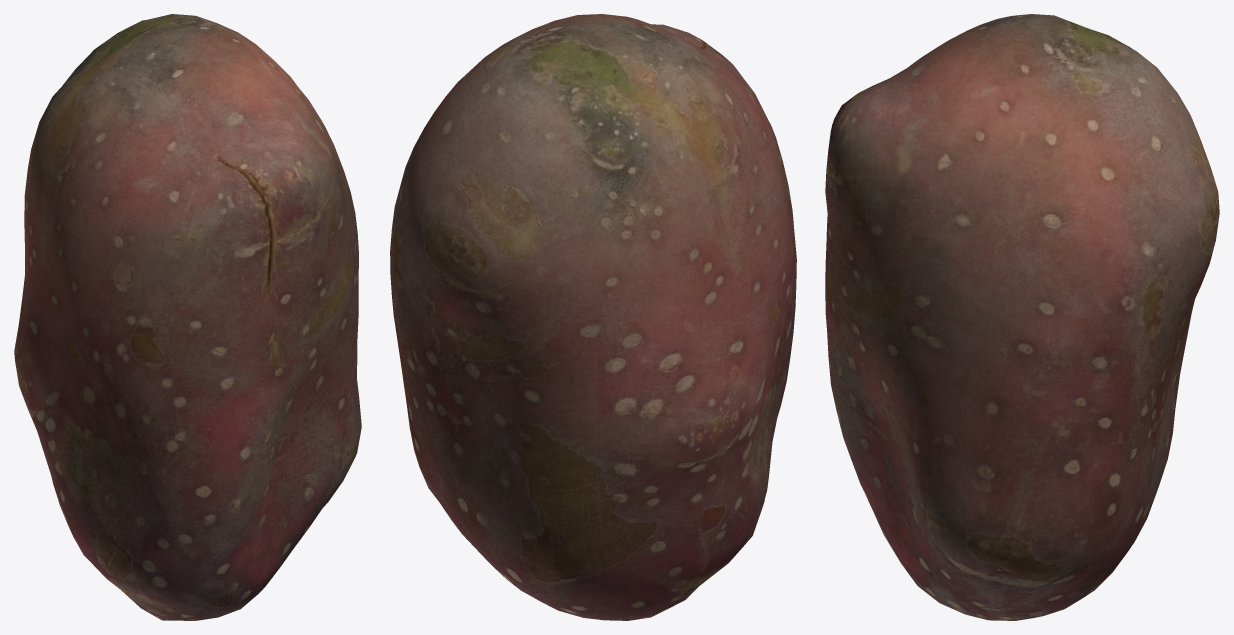
The model's file is sweet_potato.glb.
The picture shows the model from 3 angles, left to right: view 1: azimuth 30°, elevation 25°; view 2: azimuth 150°, elevation 25°; view 3: azimuth 270°, elevation 25°; orthographic projection. The views are drawn at different scales.
Parts seen in each view (by area): view 1: sweet_potato; view 2: sweet_potato; view 3: sweet_potato.
Part boxes in pixels (x1,y1,x2,y2): sweet_potato: (14,14,361,620); sweet_potato: (390,14,796,620); sweet_potato: (825,14,1219,620).
Bounding box in the file's own units: 0.0581 × 0.1005 × 0.061.
Materials: 1 (1 with a texture image).
